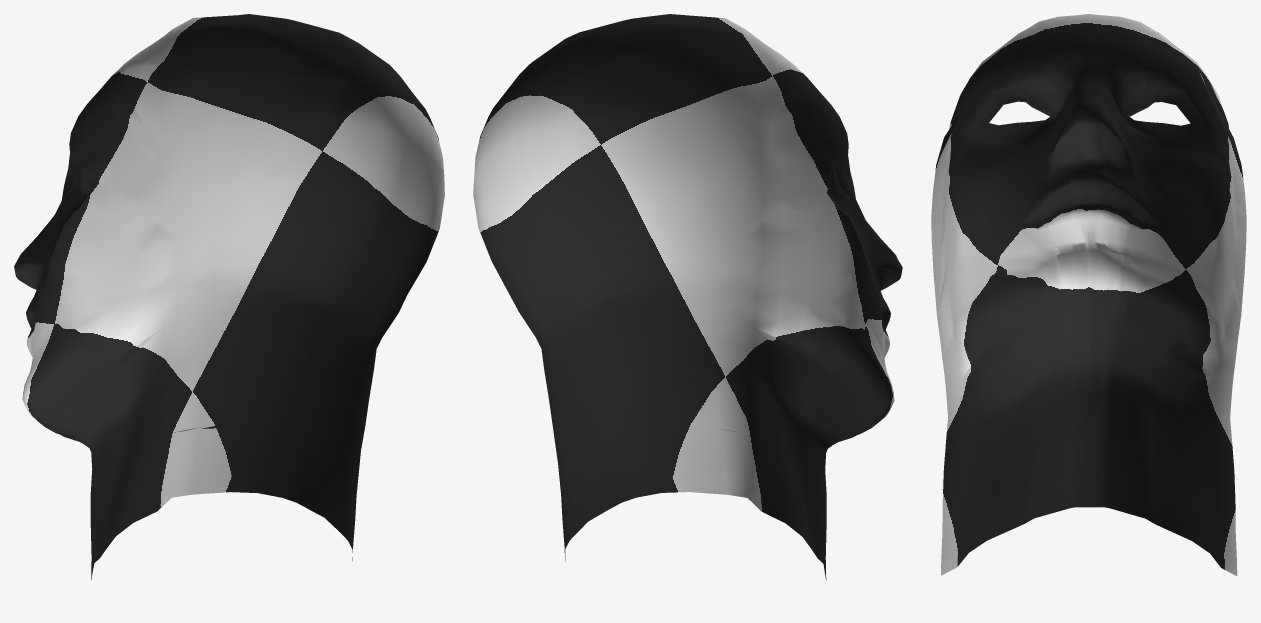
Rendered from cgalref_head_heat_result.glb.
3 views of the same model, side by side, from view 1: azimuth 30°, elevation 25°; view 2: azimuth 150°, elevation 25°; view 3: azimuth 270°, elevation 25° (orthographic). The views are drawn at different scales.
Visible parts, largest first — view 1: parameterized_mesh; view 2: parameterized_mesh; view 3: parameterized_mesh.
Boxes of the visible parts, bbox=[...] form: parameterized_mesh: bbox=[14, 14, 444, 580]; parameterized_mesh: bbox=[473, 14, 902, 580]; parameterized_mesh: bbox=[931, 14, 1246, 575].
Size of the model in its own units: 80.37 by 100 by 52.42.
Materials: 1 (1 with a texture image).
